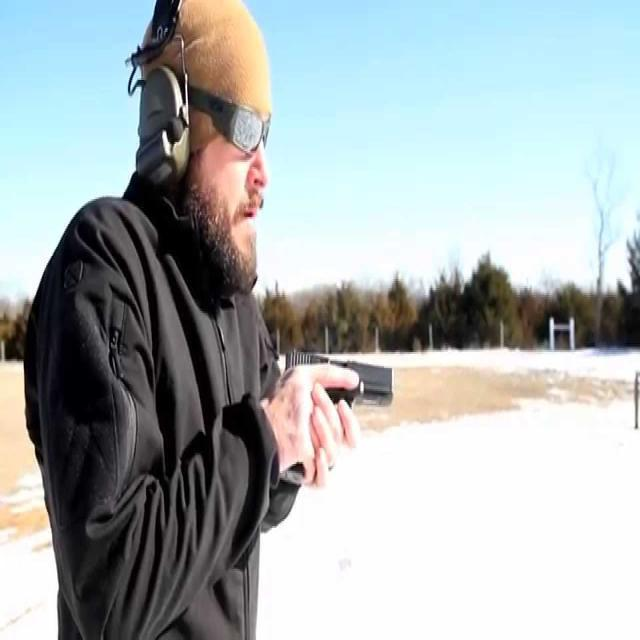Handgun: (234, 319, 452, 516)
